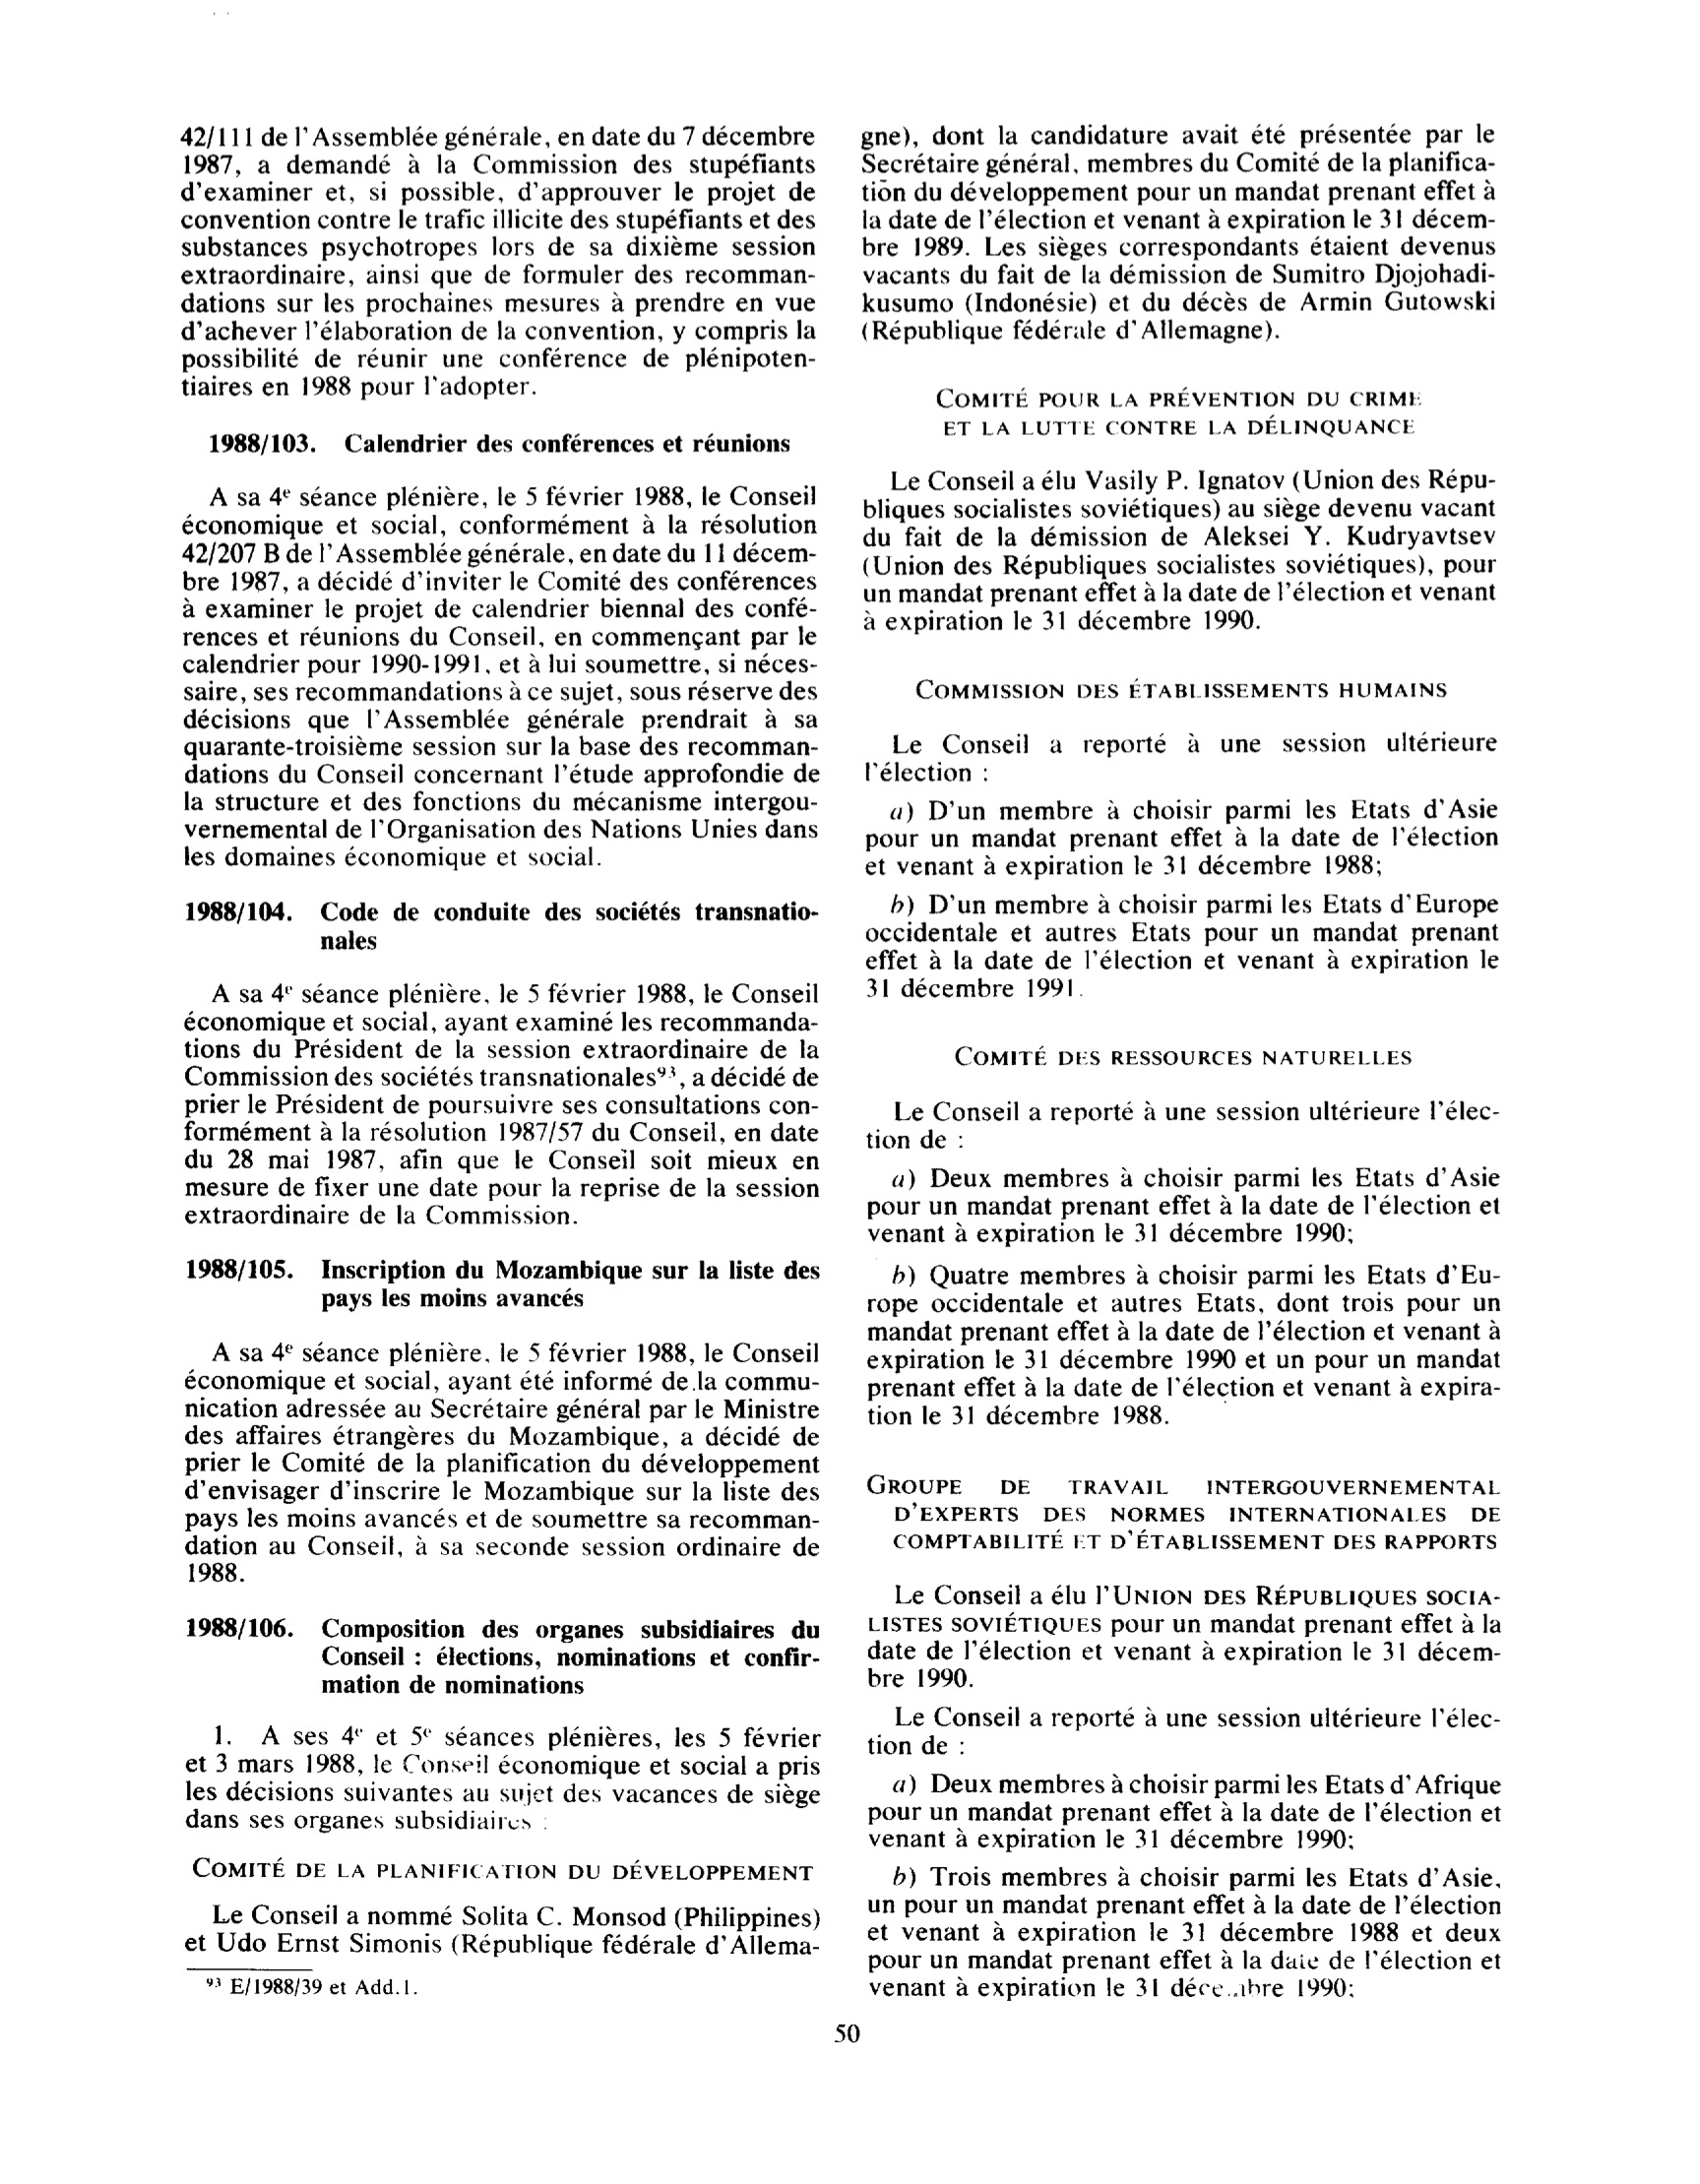MainZone-Continued: (172, 118, 823, 406), (853, 118, 1503, 352)
MainZone-Head: (177, 1607, 829, 1701), (858, 1469, 1508, 1558), (174, 893, 825, 964), (178, 1251, 826, 1318), (925, 380, 1433, 448), (197, 419, 807, 464), (909, 668, 1456, 715), (177, 1852, 823, 1887), (942, 1036, 1425, 1079)
MainZone-ListItem: (859, 1259, 1506, 1434), (861, 1858, 1509, 2007), (858, 887, 1507, 1009), (176, 1717, 831, 1838), (860, 1160, 1506, 1251), (857, 793, 1506, 882), (860, 1767, 1510, 1854)
MainZone-P: (175, 474, 826, 875), (176, 976, 826, 1231), (177, 1336, 828, 1590), (854, 463, 1504, 643), (860, 1577, 1508, 1695), (176, 1897, 826, 1963), (857, 726, 1503, 792), (859, 1701, 1510, 1766), (857, 1094, 1506, 1159)
MarginTextZone-Notes: (197, 1970, 431, 2006)
NumberingZone: (830, 2017, 865, 2053)
